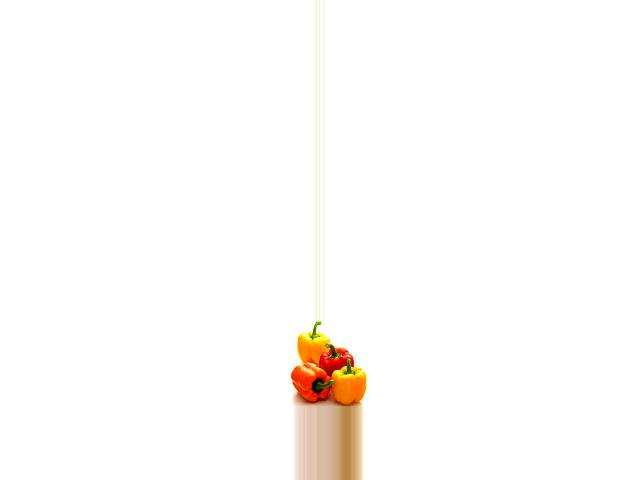bell_pepper: (321, 359, 367, 405)
